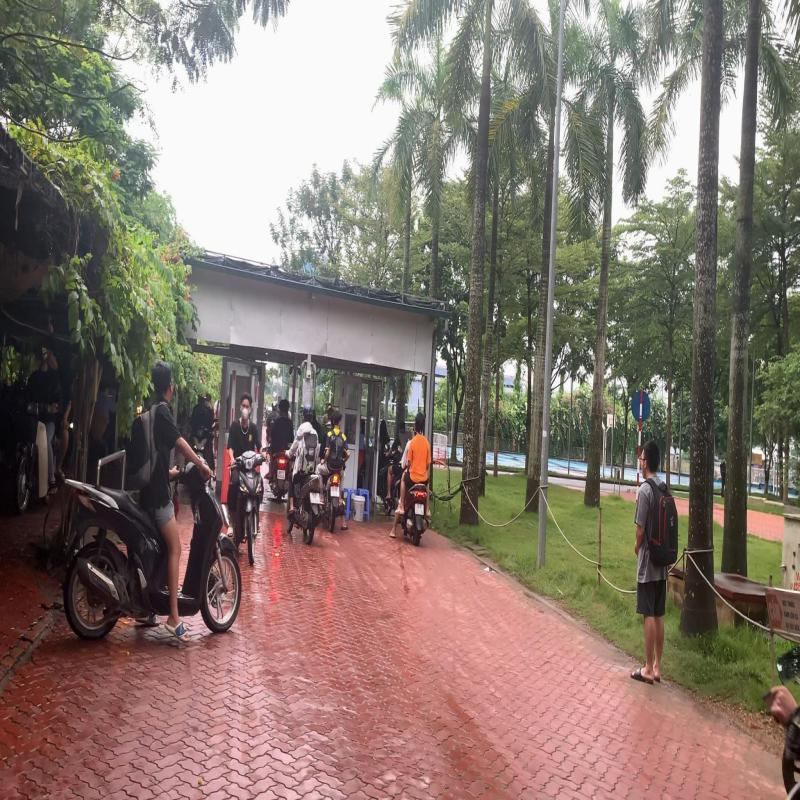nohelmet: (149, 358, 176, 404), (414, 412, 426, 434)
